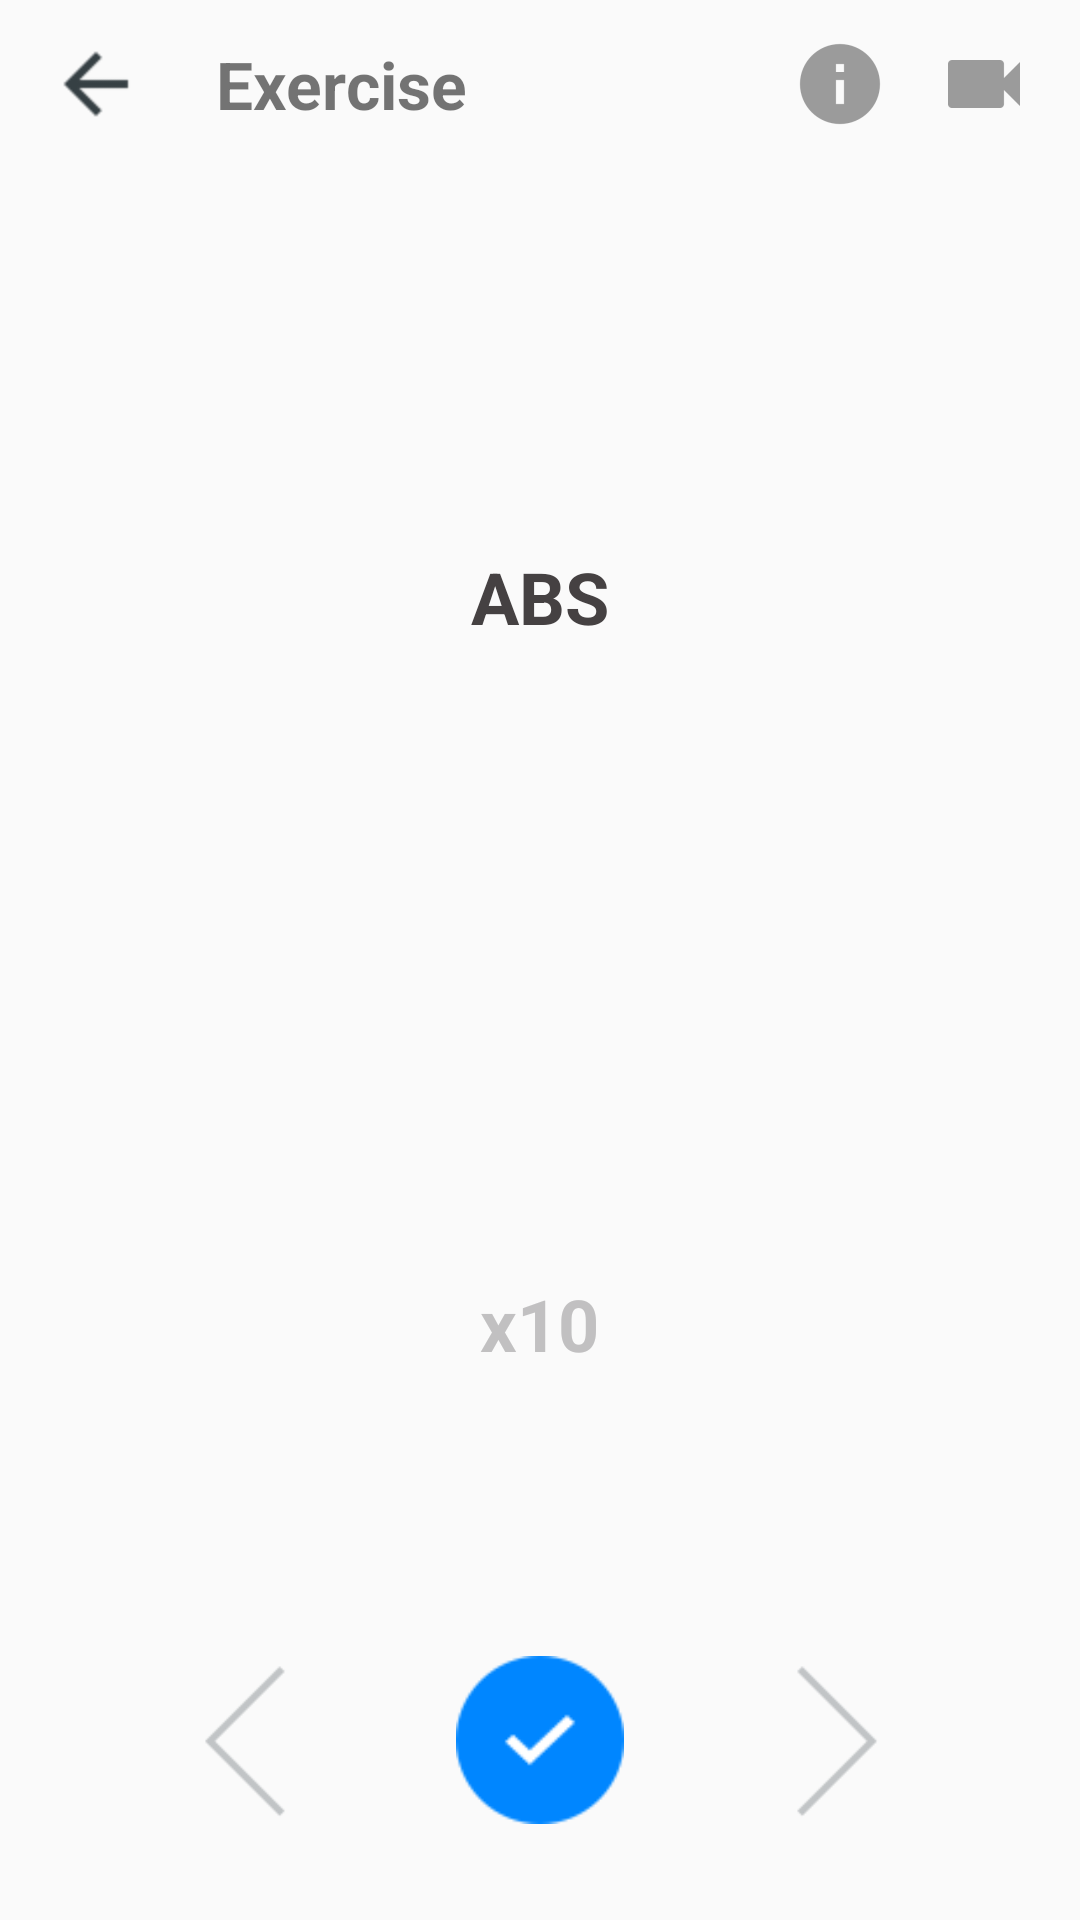

Where to tap for icons on this 1080px x 1920px app screen, as point (x, y):
back arrow: point (96, 84)
goal complete: point (540, 1740)
info: point (840, 84)
next exercise: point (837, 1741)
pre exercise: point (245, 1741)
video cam: point (984, 84)
